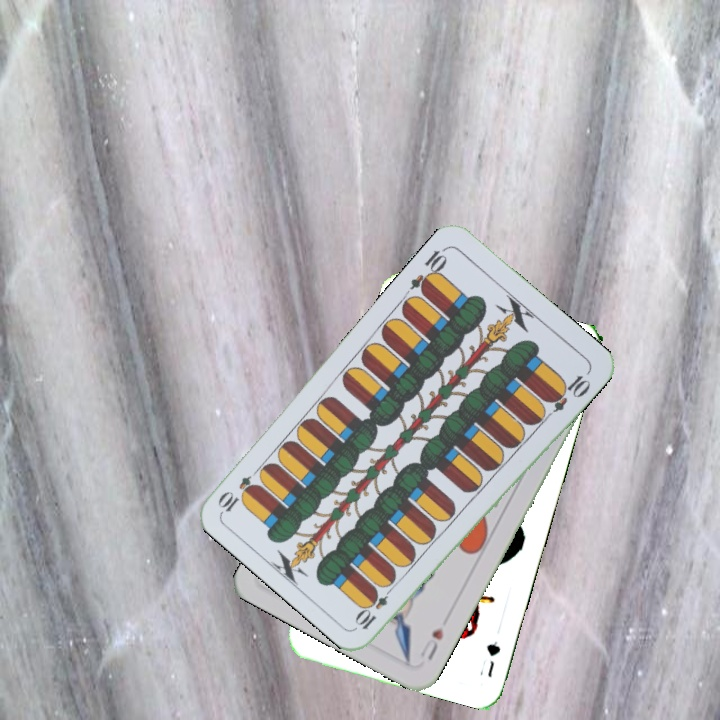E10: (406, 243, 451, 297), (352, 580, 397, 632)
GU: (475, 637, 503, 680)
HU: (416, 623, 446, 663)
